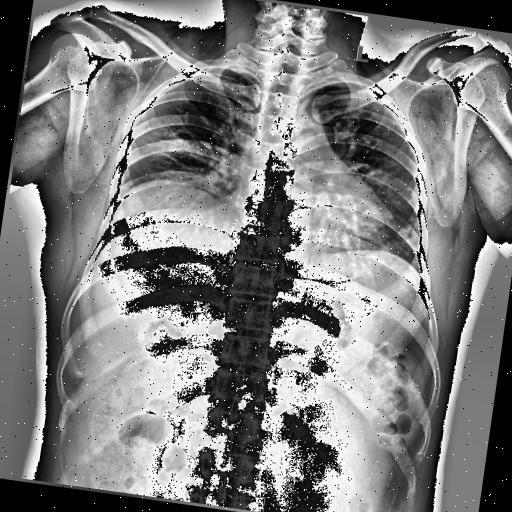3- Cardiomegaly: (218, 179, 402, 270), (220, 170, 400, 258), (222, 174, 402, 257)
